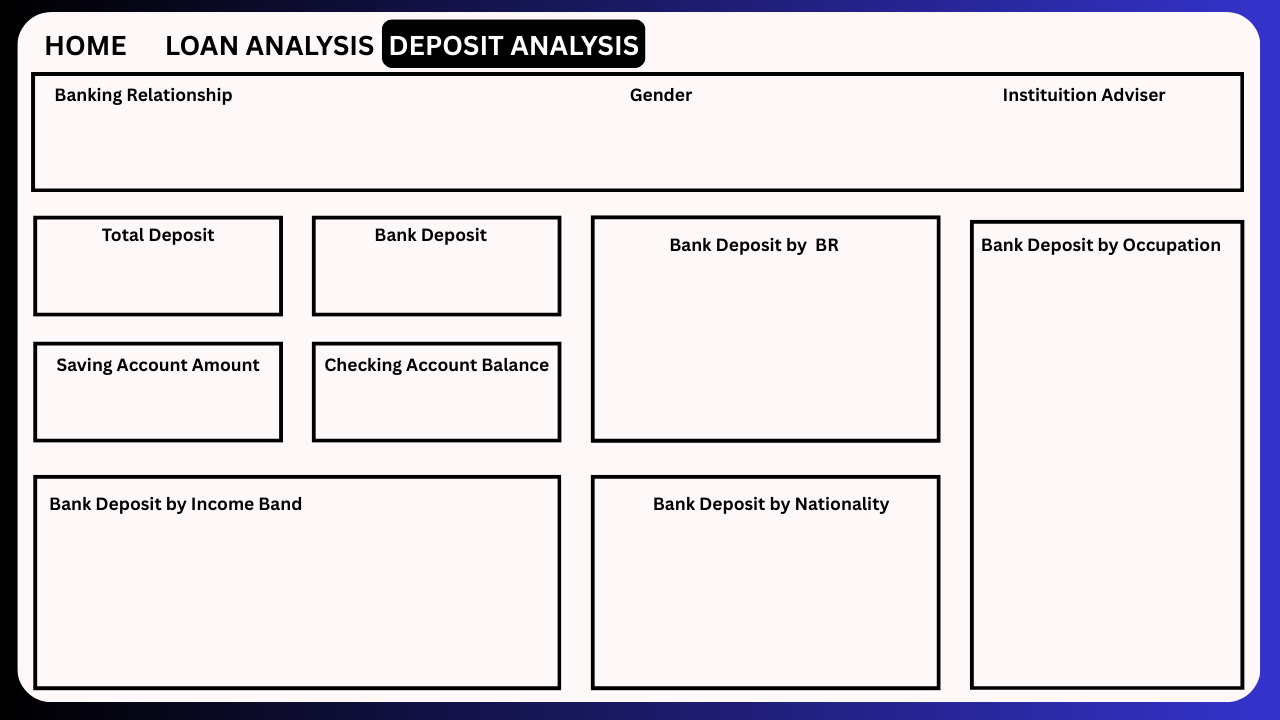

This screenshot's page, from the dashboard's own definition file:
{"tool":"powerbi","page":{"name":"Deposit Analyses","canvas":[1280,720],"ordinal":2},"visuals":[{"type":"card","fields":{"Values":["Sum(Banking.Bank Deposits)"]},"box":[287.1,225.1,279.9,76.5],"z":0},{"type":"card","fields":{"Values":["Sum(Banking.total Deposit)"]},"box":[24.5,225.1,279.9,76.5],"z":1000},{"type":"card","fields":{"Values":["Sum(Banking.Checking Accounts)"]},"box":[287.1,362.2,279.9,76.5],"z":2000},{"type":"card","fields":{"Values":["Sum(Banking.Saving Accounts)"]},"box":[13,360.7,279.9,76.5],"z":3000},{"type":"donutChart","title":"Bank Loans by Income Band","fields":{"Category":["Banking.Income Band"],"Y":["Sum(Banking.Bank Loans)"]},"box":[54.8,510.8,489.1,165.9],"z":4000},{"type":"clusteredColumnChart","fields":{"Category":["Banking.BRId"],"Y":["Sum(Banking.Bank Deposits)"]},"box":[597.3,264,323.2,158.7],"z":5000},{"type":"clusteredColumnChart","fields":{"Category":["Banking.Nationality"],"Y":["Sum(Banking.Bank Deposits)"]},"box":[597.3,510.8,323.2,170.3],"z":6000},{"type":"clusteredColumnChart","fields":{"Category":["Banking.Occupation"],"Y":["Sum(Banking.Bank Deposits)"]},"box":[976.8,278.5,252.5,418.4],"z":7000},{"type":"slicer","fields":{"Values":["Banking.Year of Joining"]},"box":[640.6,11.5,607.4,59.2],"z":8000},{"type":"slicer","fields":{"Values":["Banking.GenderId"]},"box":[567,111.1,313.1,64.9],"z":10000},{"type":"slicer","fields":{"Values":["Banking.IAId"]},"box":[935,121.2,313.1,44.7],"z":11000},{"type":"actionButton","box":[152.9,21.6,225.1,39],"z":12002},{"type":"actionButton","box":[37.5,21.6,89.5,40.4],"z":12003},{"type":"slicer","fields":{"Values":["Banking.BRId"]},"box":[24.5,111.1,519.4,64.9],"z":12004}]}

Visuals, with their boxes in screenshot pixels (x1, y1, x2, y2), scaled from the page's 1280x720 canvas onto the 1280x720 screenshot:
card - Sum(Banking.Bank Deposits): left=287, top=225, right=567, bottom=302
card - Sum(Banking.total Deposit): left=24, top=225, right=304, bottom=302
card - Sum(Banking.Checking Accounts): left=287, top=362, right=567, bottom=439
card - Sum(Banking.Saving Accounts): left=13, top=361, right=293, bottom=437
"Bank Loans by Income Band" donutChart: left=55, top=511, right=544, bottom=677
clusteredColumnChart - Banking.BRId x Sum(Banking.Bank Deposits): left=597, top=264, right=920, bottom=423
clusteredColumnChart - Banking.Nationality x Sum(Banking.Bank Deposits): left=597, top=511, right=920, bottom=681
clusteredColumnChart - Banking.Occupation x Sum(Banking.Bank Deposits): left=977, top=278, right=1229, bottom=697
slicer - Banking.Year of Joining: left=641, top=12, right=1248, bottom=71
slicer - Banking.GenderId: left=567, top=111, right=880, bottom=176
slicer - Banking.IAId: left=935, top=121, right=1248, bottom=166
actionButton: left=153, top=22, right=378, bottom=61
actionButton: left=38, top=22, right=127, bottom=62
slicer - Banking.BRId: left=24, top=111, right=544, bottom=176
